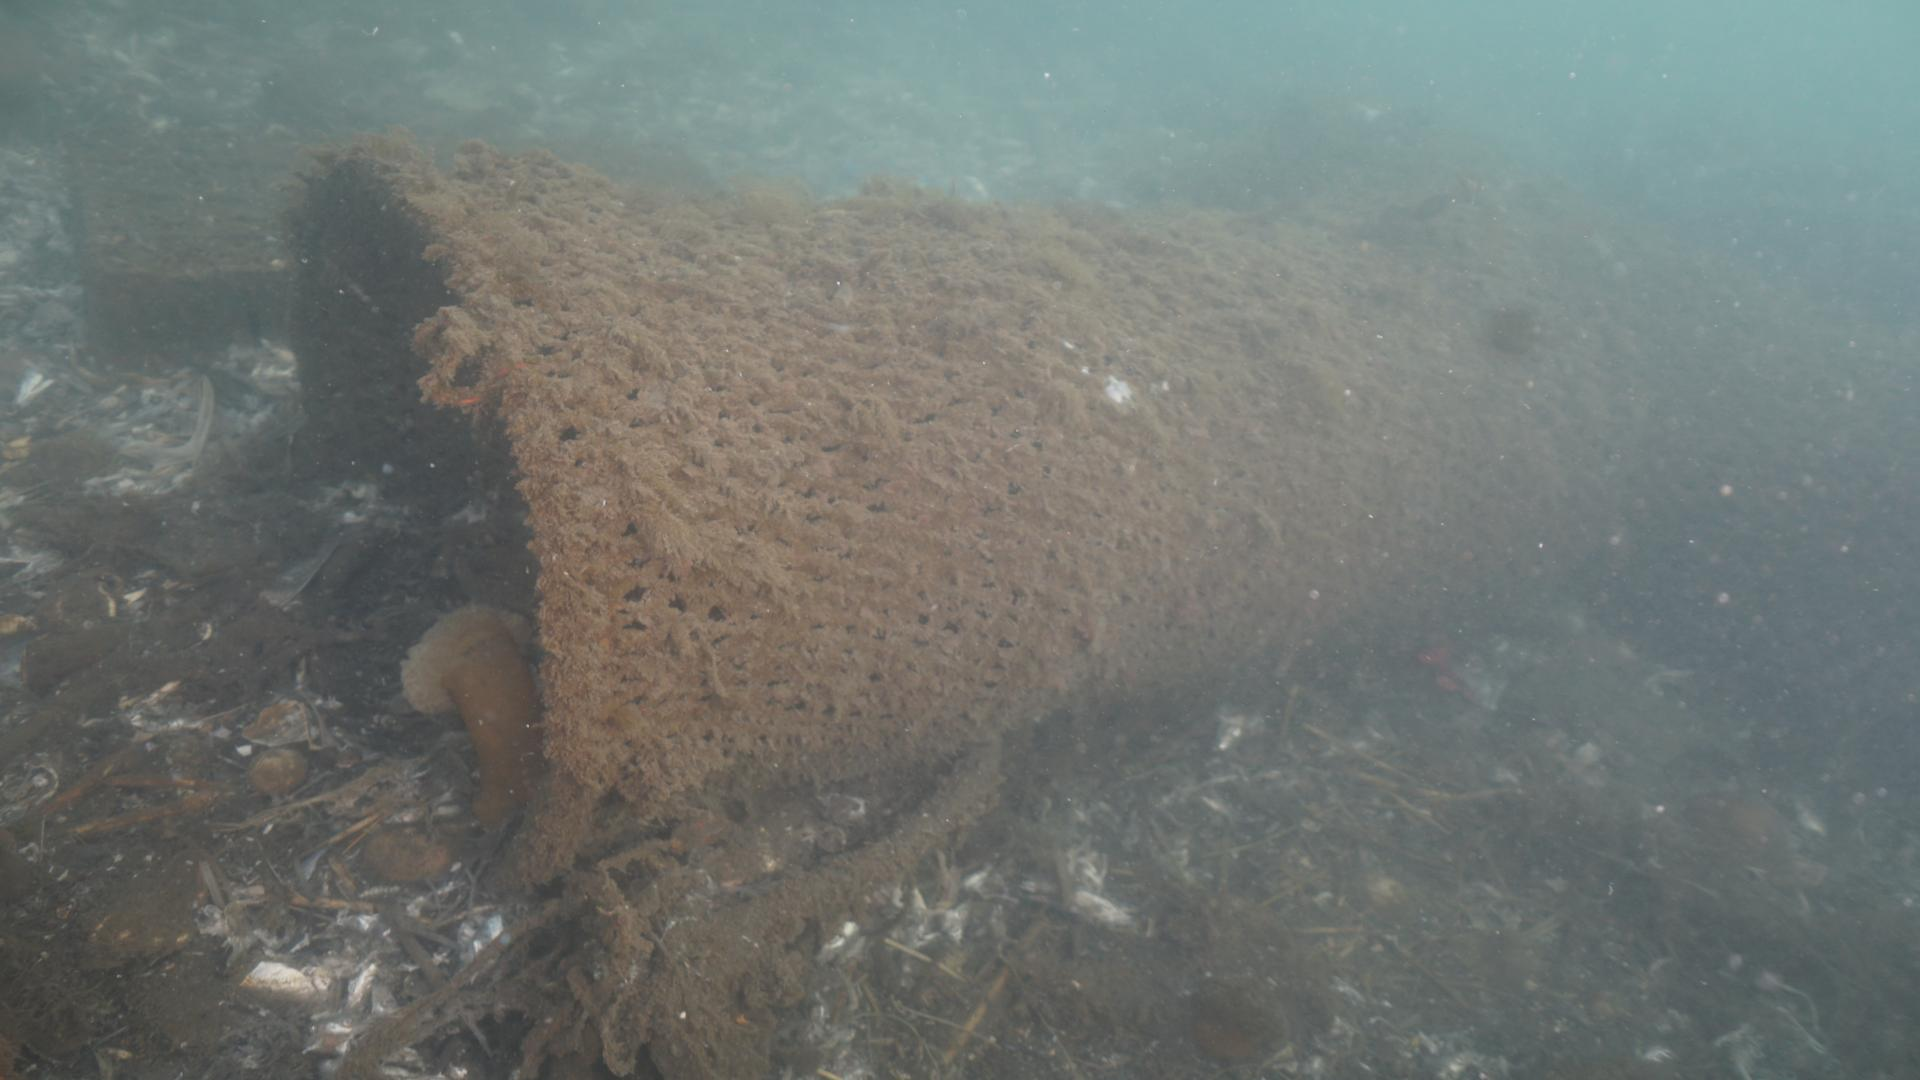spring fish trap: (287, 137, 1600, 893)
